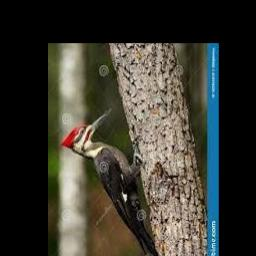Woodpecker: (62, 108, 164, 256)
